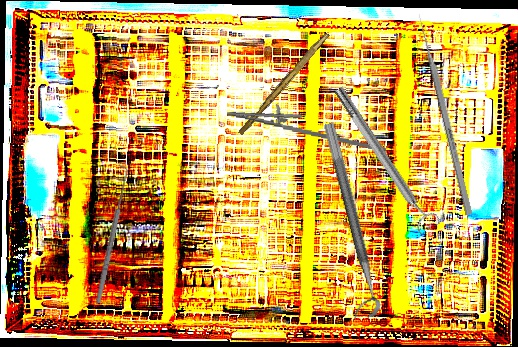Fixation Ring: (327, 80, 443, 238), (306, 121, 384, 322)
Hook Surgical: (89, 164, 132, 305)
Needle Holder: (224, 98, 390, 153)
Pusher: (415, 12, 474, 216)
Scalpel Handle: (237, 29, 330, 138)
